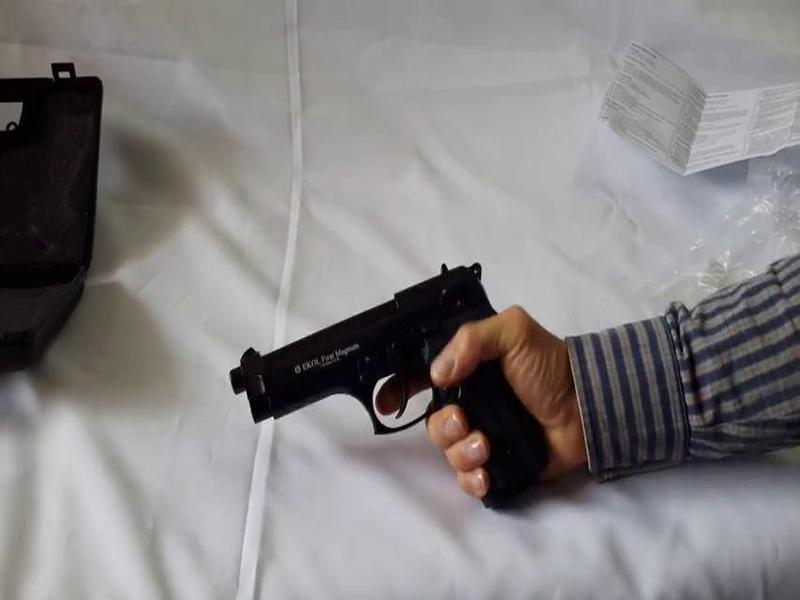Pistola: (189, 215, 585, 524)
